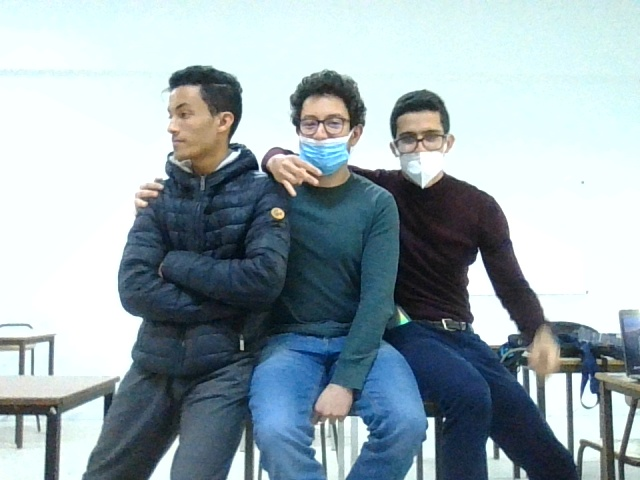mask_weared_incorrect: (294, 104, 353, 177), (394, 123, 452, 187)
without_mask: (166, 101, 227, 159)
